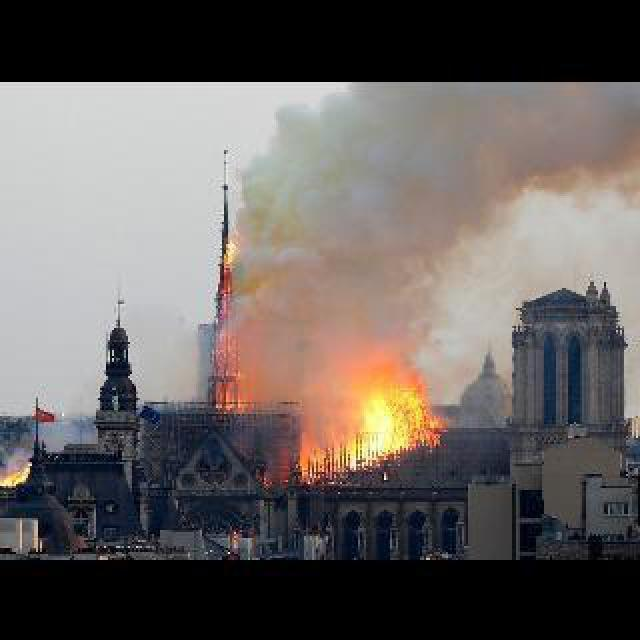Fire: (264, 378, 450, 480), (194, 234, 248, 406)
Smoke: (258, 92, 478, 386)
